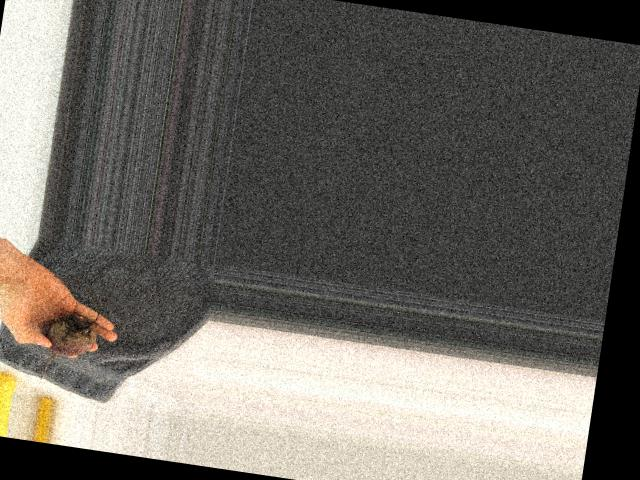beet: (34, 308, 98, 386)
